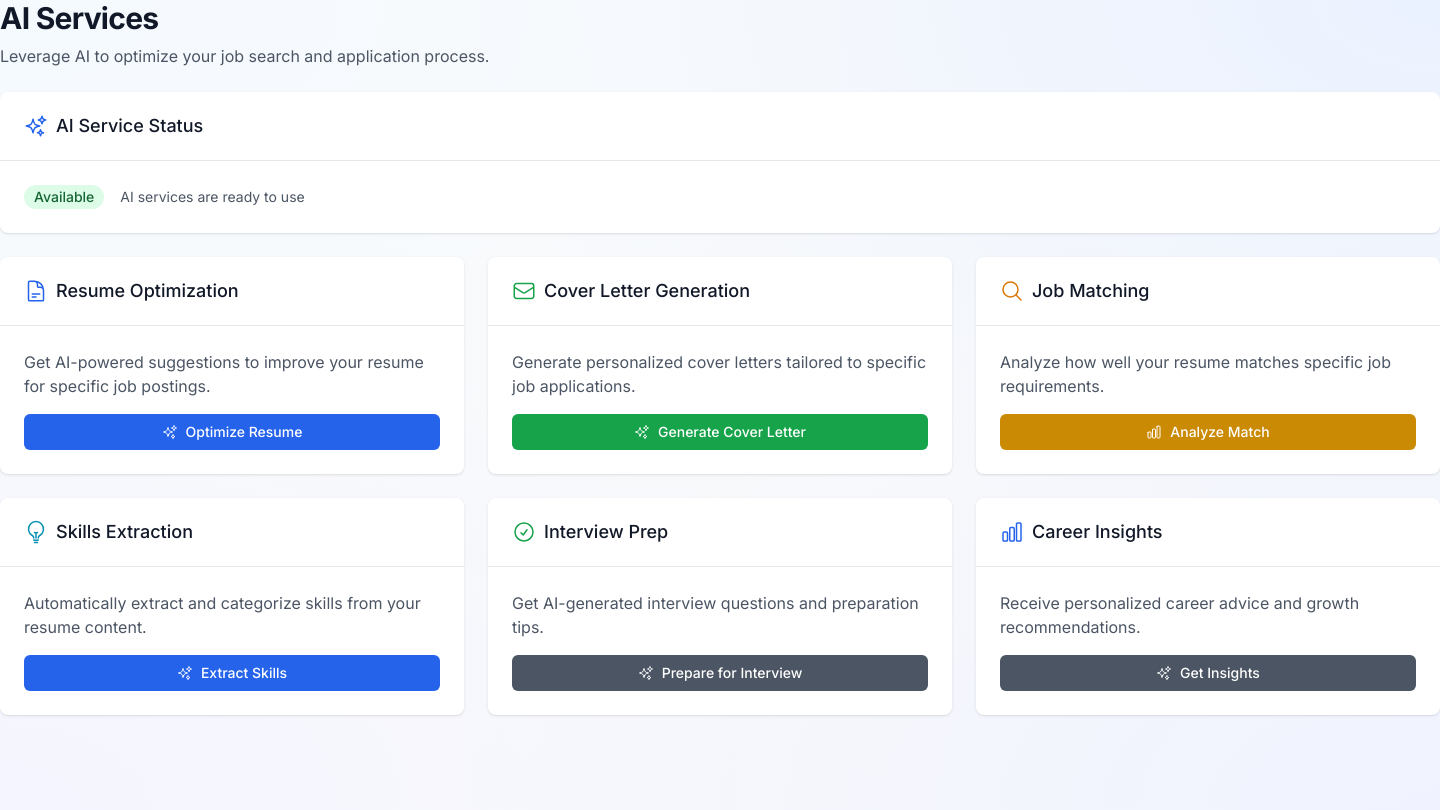
AIServices Page › opens Cover Letter Generation modal
Click the button "Generate Cover Letter" at (720, 432), box x1=512 y1=414 x2=928 y2=450
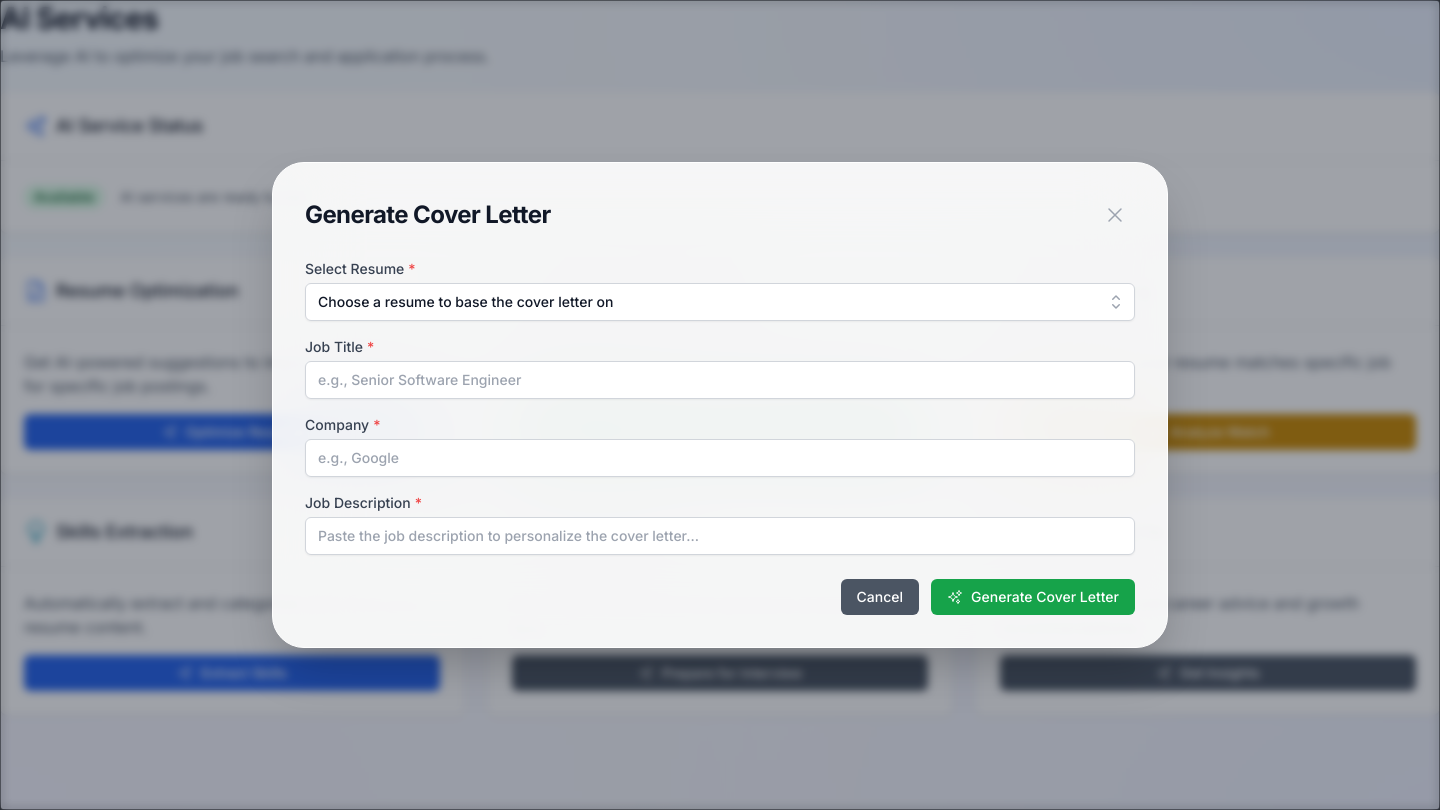
Expected: the dialog "Generate Cover Letter" is shown
